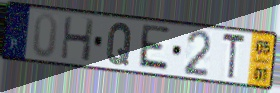0: (31, 11, 60, 59)
2: (183, 28, 213, 78)
E: (136, 22, 172, 74)
H: (59, 14, 96, 63)
Q: (104, 21, 134, 68)
T: (221, 31, 247, 82)
